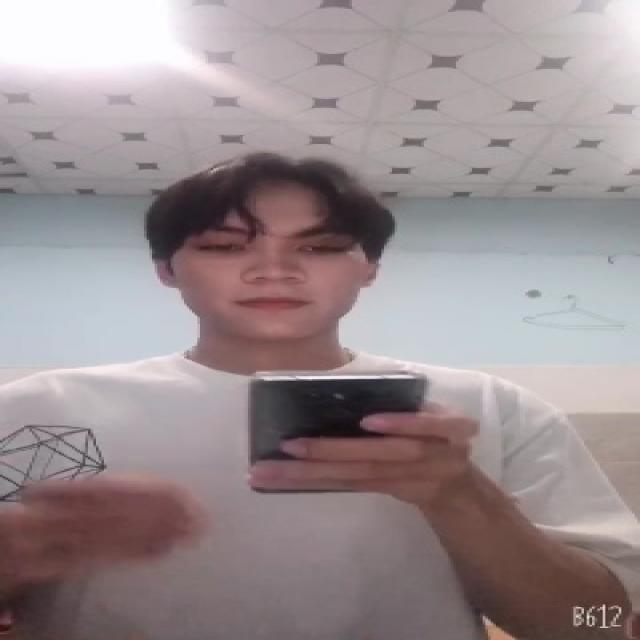Phone: (243, 366, 439, 492)
